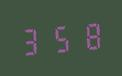eight: (75, 18, 102, 52)
five: (47, 21, 74, 54)
three: (18, 23, 45, 57)
